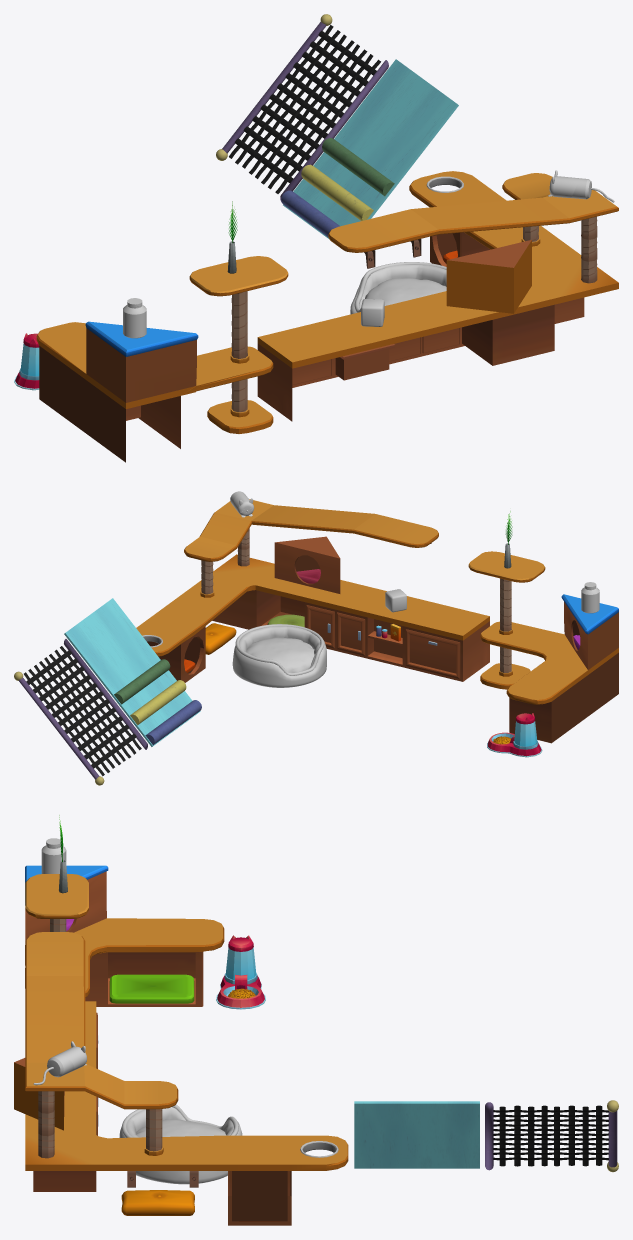
File: Cat room props.fbx
3 views of the same model, one above another, from view 1: azimuth 30°, elevation 25°; view 2: azimuth 150°, elevation 25°; view 3: azimuth 270°, elevation 25° (orthographic). The views are drawn at different scales.
Parts seen in each view (by area): view 1: Cat complex, slant, NetSlant, Cat complex.001, Cat bed, nwtSlant culom, Cat Feeder, cat_toy, jar, Dice; view 2: Cat complex, slant, Cat bed, NetSlant, Cat complex.001, nwtSlant culom, Cat Feeder, Pillow, jar, cat_toy, Dice; view 3: Cat complex, slant, NetSlant, Cat bed, Cat Feeder, Pillow, Cat complex.001, nwtSlant culom, cat_toy, jar.
Part boxes in pixels (x1=…): Cat complex: x1=36, y1=171, x2=618, y2=462; slant: x1=281, y1=59, x2=458, y2=239; NetSlant: x1=229, y1=25, x2=380, y2=193; Cat complex.001: x1=446, y1=240, x2=531, y2=313; Cat bed: x1=350, y1=262, x2=446, y2=314; nwtSlant culom: x1=216, y1=14, x2=388, y2=201; Cat Feeder: x1=14, y1=333, x2=39, y2=390; cat_toy: x1=548, y1=170, x2=614, y2=202; jar: x1=123, y1=298, x2=146, y2=338; Dice: x1=361, y1=299, x2=384, y2=326; Cat complex: x1=136, y1=499, x2=618, y2=743; slant: x1=64, y1=598, x2=201, y2=746; Cat bed: x1=232, y1=624, x2=326, y2=687; NetSlant: x1=24, y1=646, x2=141, y2=776; Cat complex.001: x1=274, y1=536, x2=340, y2=593; nwtSlant culom: x1=14, y1=639, x2=147, y2=785; Cat Feeder: x1=487, y1=713, x2=542, y2=757; Pillow: x1=205, y1=623, x2=236, y2=654; jar: x1=581, y1=582, x2=599, y2=613; cat_toy: x1=230, y1=491, x2=254, y2=517; Dice: x1=385, y1=589, x2=406, y2=612; Cat complex: x1=25, y1=865, x2=348, y2=1225; slant: x1=354, y1=1101, x2=479, y2=1168; NetSlant: x1=493, y1=1105, x2=608, y2=1166; Cat bed: x1=119, y1=1104, x2=242, y2=1184; Cat Feeder: x1=216, y1=935, x2=265, y2=1009; Pillow: x1=121, y1=1190, x2=194, y2=1215; Cat complex.001: x1=14, y1=1058, x2=64, y2=1130; nwtSlant culom: x1=485, y1=1100, x2=618, y2=1172; cat_toy: x1=33, y1=1041, x2=87, y2=1085; jar: x1=41, y1=838, x2=66, y2=873.
Bounding box in the file's own units: 564 × 240 × 579.
